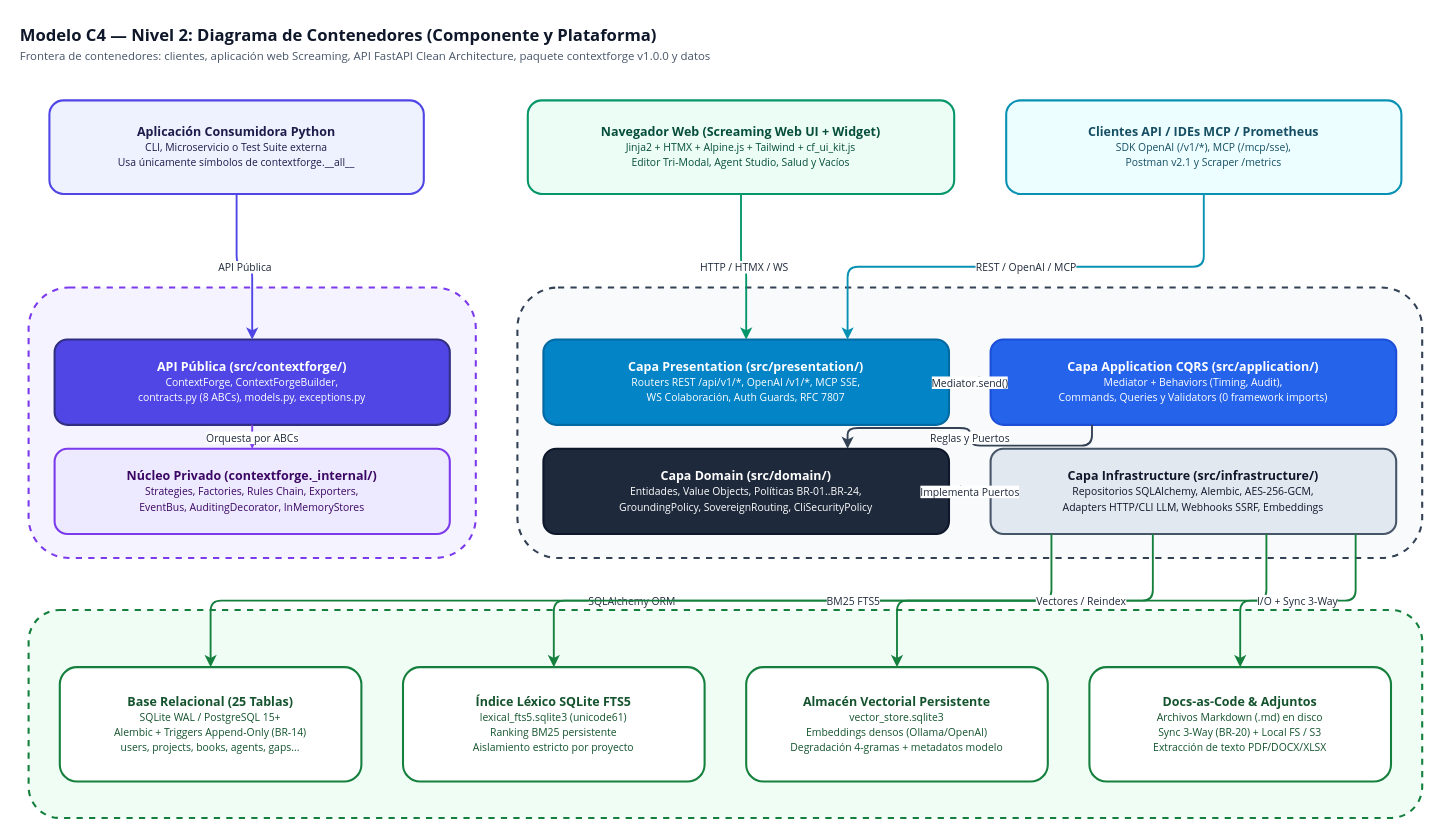
This 1450x836 diagram has some shape labels left out. Each missing label, with the box of its shape:
Contenedores de Persistencia e Índices Locales / Distribuidos: (27, 608, 1423, 818)
Paquete Python Reutilizable: contextforge v1.0.0 (dependencies = []): (27, 286, 476, 558)
Plataforma Host FastAPI — Clean Architecture 4 Capas (v2.1.0): (516, 286, 1423, 558)
